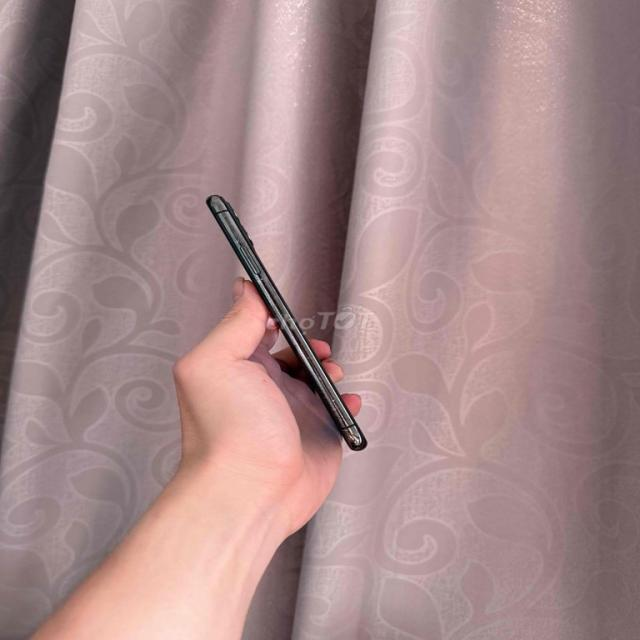scratch: (251, 269, 362, 447)
